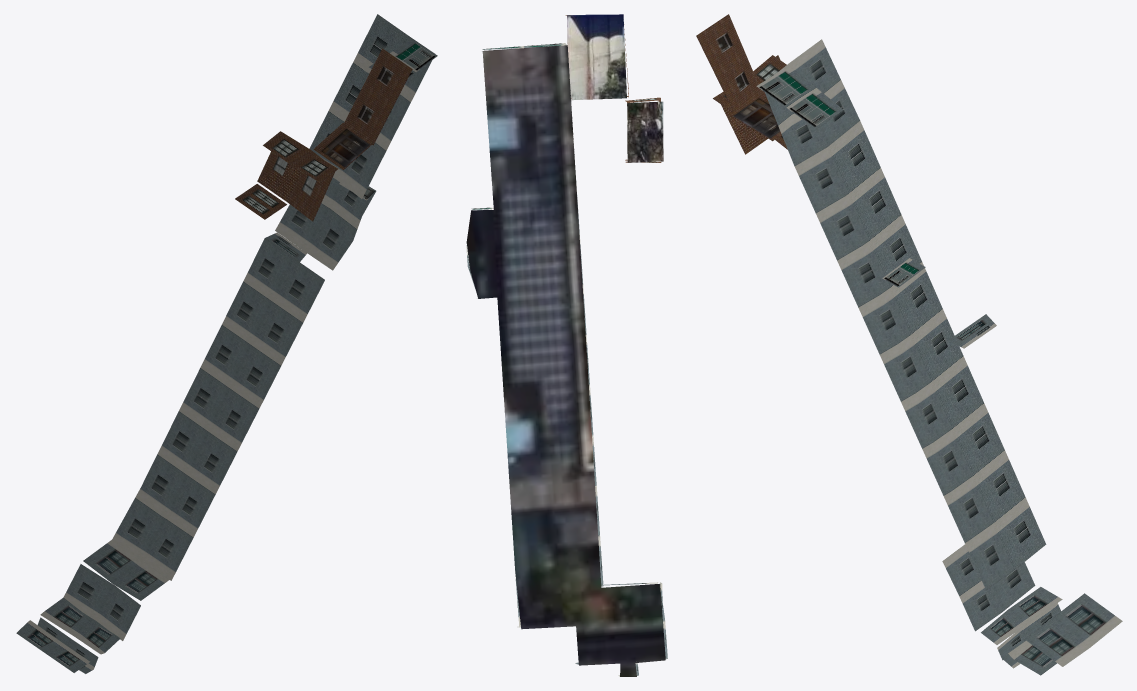
The model's file is tile_LOD4_r0_c2.glb.
3 views of the same model, side by side, from view 1: azimuth 30°, elevation 25°; view 2: azimuth 150°, elevation 25°; view 3: azimuth 270°, elevation 25° (orthographic). The views are drawn at different scales.
Size of the model in its own units: 37 by 72.75 by 39.
Materials: 14 (14 with a texture image).
